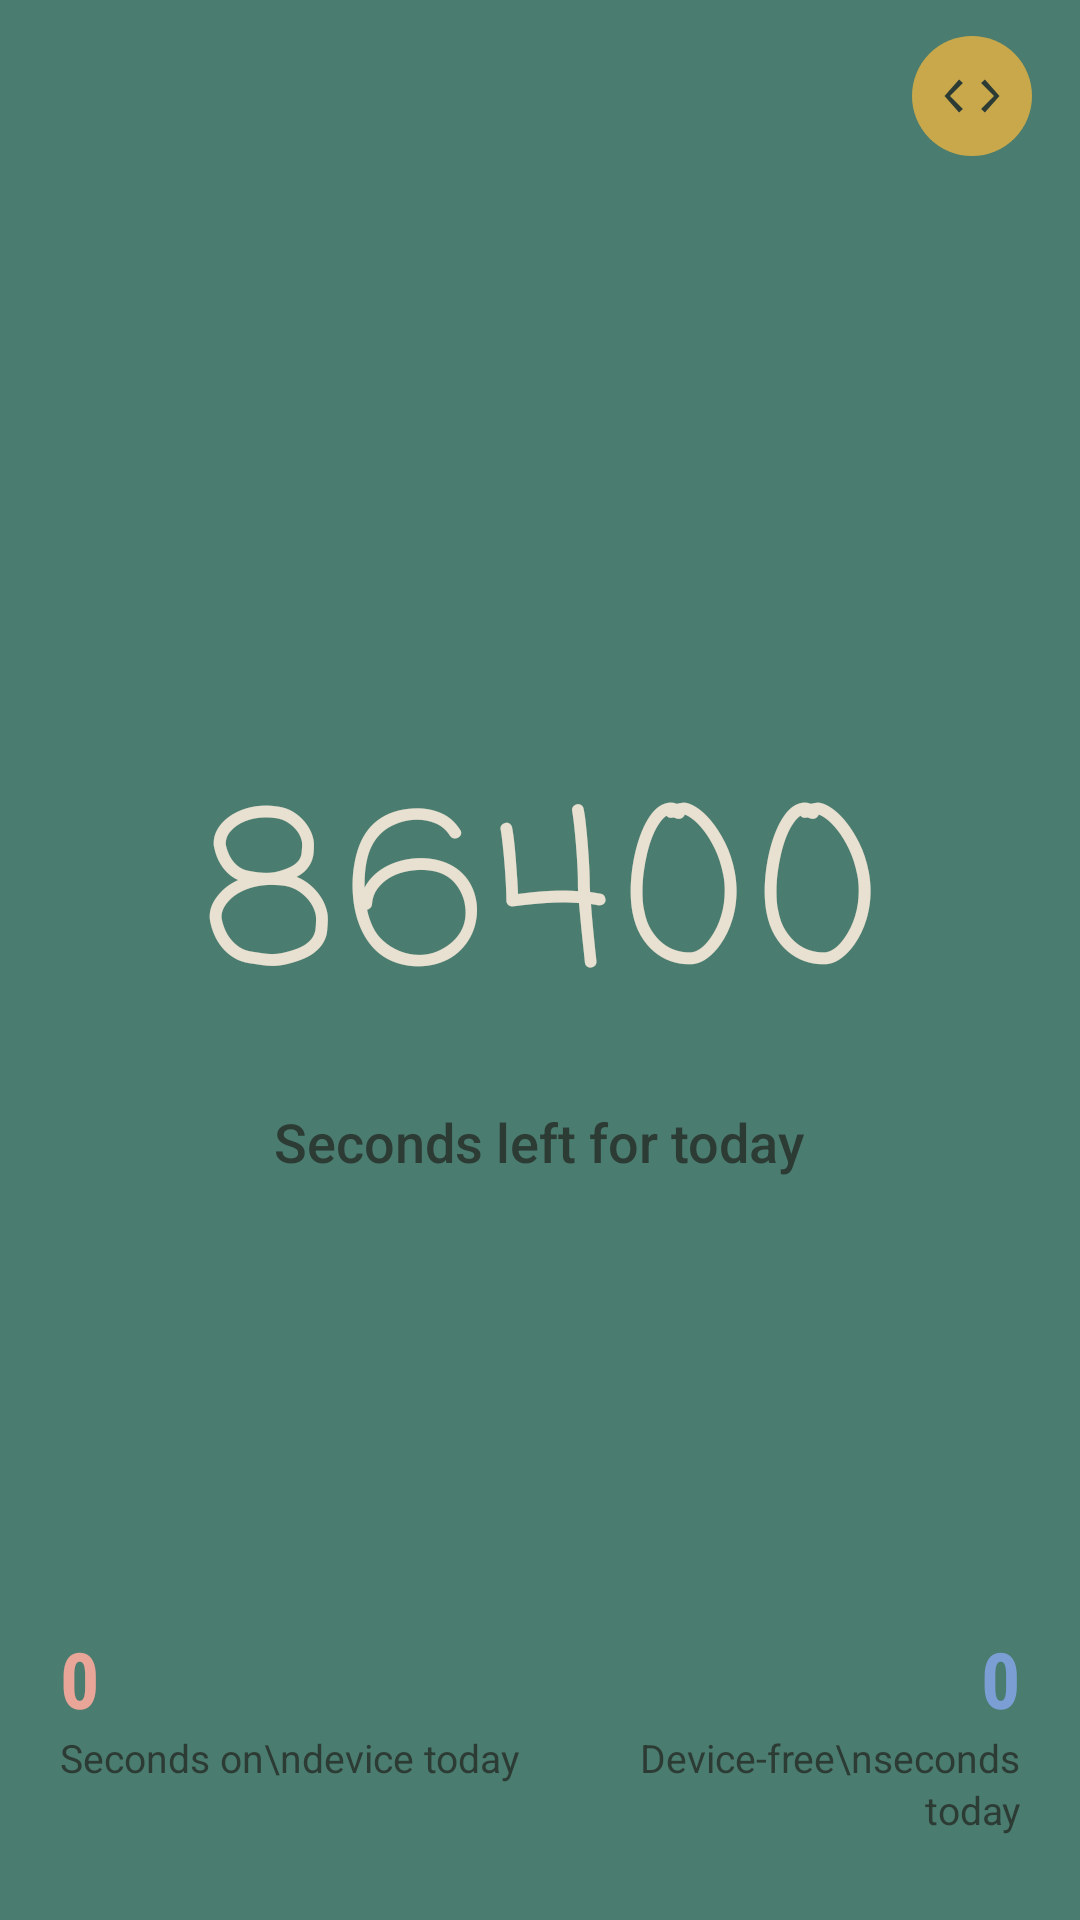

Icons on this 1080 × 1920 Android screen, each with its box as {"left": x1, "top": y1, "right": x2, "bottom": y2}:
Developer information: {"left": 912, "top": 36, "right": 1032, "bottom": 156}
